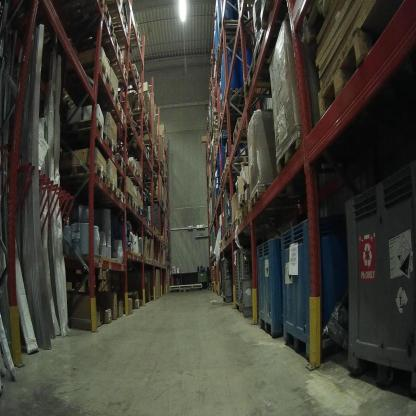pallet: (312, 25, 393, 124), (50, 6, 118, 62), (241, 63, 295, 110), (250, 25, 295, 76), (277, 130, 316, 185), (248, 185, 307, 213), (60, 116, 107, 148), (53, 164, 108, 190), (72, 63, 115, 93), (301, 6, 332, 46), (86, 30, 122, 64), (75, 176, 122, 200), (96, 0, 131, 26), (105, 18, 133, 49), (221, 87, 250, 113), (233, 114, 254, 149), (225, 154, 254, 177), (96, 87, 120, 111), (103, 103, 127, 126), (112, 58, 132, 85), (220, 172, 244, 189), (122, 72, 139, 92), (124, 63, 141, 83), (104, 142, 119, 164), (129, 30, 145, 48), (115, 152, 128, 174), (239, 199, 250, 224), (129, 108, 148, 122), (123, 188, 134, 211), (124, 160, 138, 176), (120, 104, 134, 118), (206, 46, 216, 65), (134, 20, 143, 41), (119, 186, 128, 206), (237, 211, 244, 232), (138, 205, 146, 223), (177, 284, 190, 294), (131, 196, 138, 214), (150, 223, 158, 236), (228, 225, 234, 241), (232, 219, 237, 238), (139, 172, 144, 183)
stillage: (239, 244, 261, 320), (220, 253, 237, 305), (234, 247, 245, 313), (222, 188, 228, 245)
